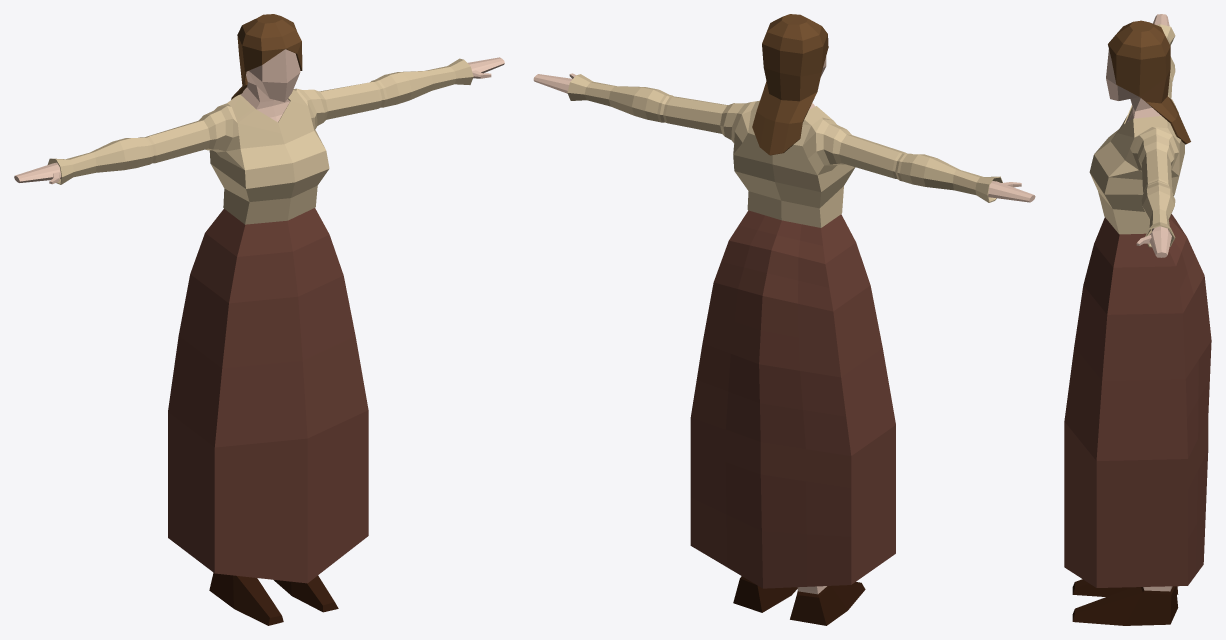
File: postac_kobieta_test2.fbx
3 views of the same model, side by side, from view 1: azimuth 30°, elevation 25°; view 2: azimuth 150°, elevation 25°; view 3: azimuth 270°, elevation 25° (orthographic). The views are drawn at different scales.
Visible parts, largest first — view 1: Cylinder.002; view 2: Cylinder.002; view 3: Cylinder.002.
Part boxes in pixels (x1,y1,x2,y2): Cylinder.002: [14, 14, 504, 625]; Cylinder.002: [533, 14, 1035, 625]; Cylinder.002: [1064, 14, 1211, 625].
Bounding box in the file's own units: 236 × 267 × 61.55.
